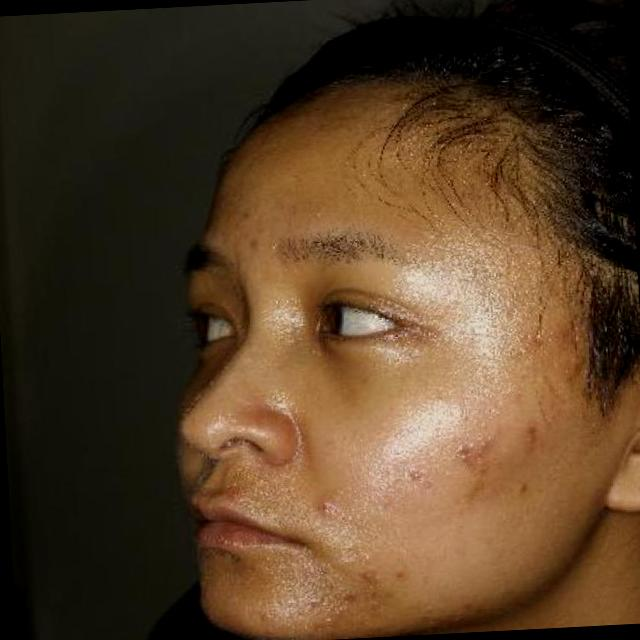darkspot: (508, 477, 536, 496), (359, 563, 385, 583), (520, 418, 542, 440), (358, 585, 383, 604), (339, 586, 359, 608)
nodules: (310, 496, 336, 524), (400, 463, 428, 482), (474, 436, 494, 454), (453, 449, 474, 465), (452, 440, 469, 456)
